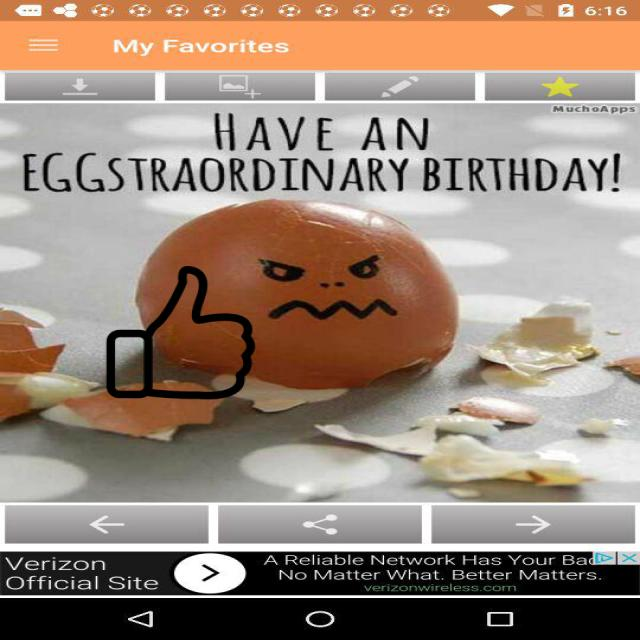privacy zuckering: (104, 266, 257, 399)
